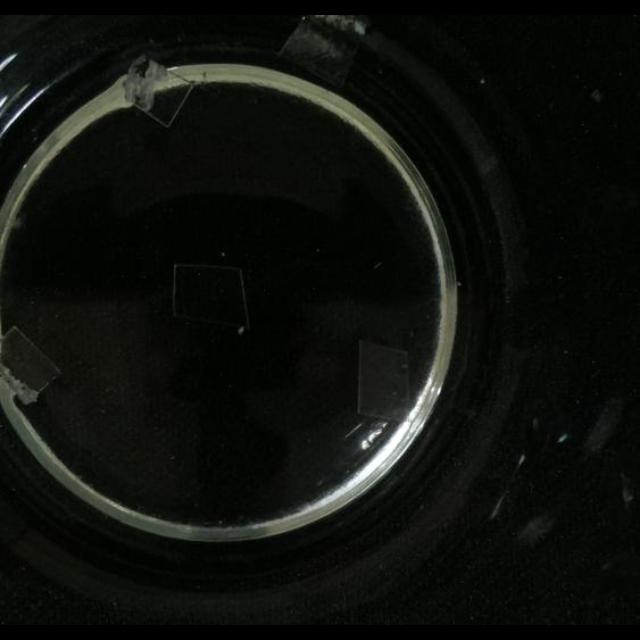Film: (276, 15, 374, 90), (169, 260, 251, 332), (122, 55, 196, 128), (0, 320, 60, 410), (355, 338, 413, 422)
